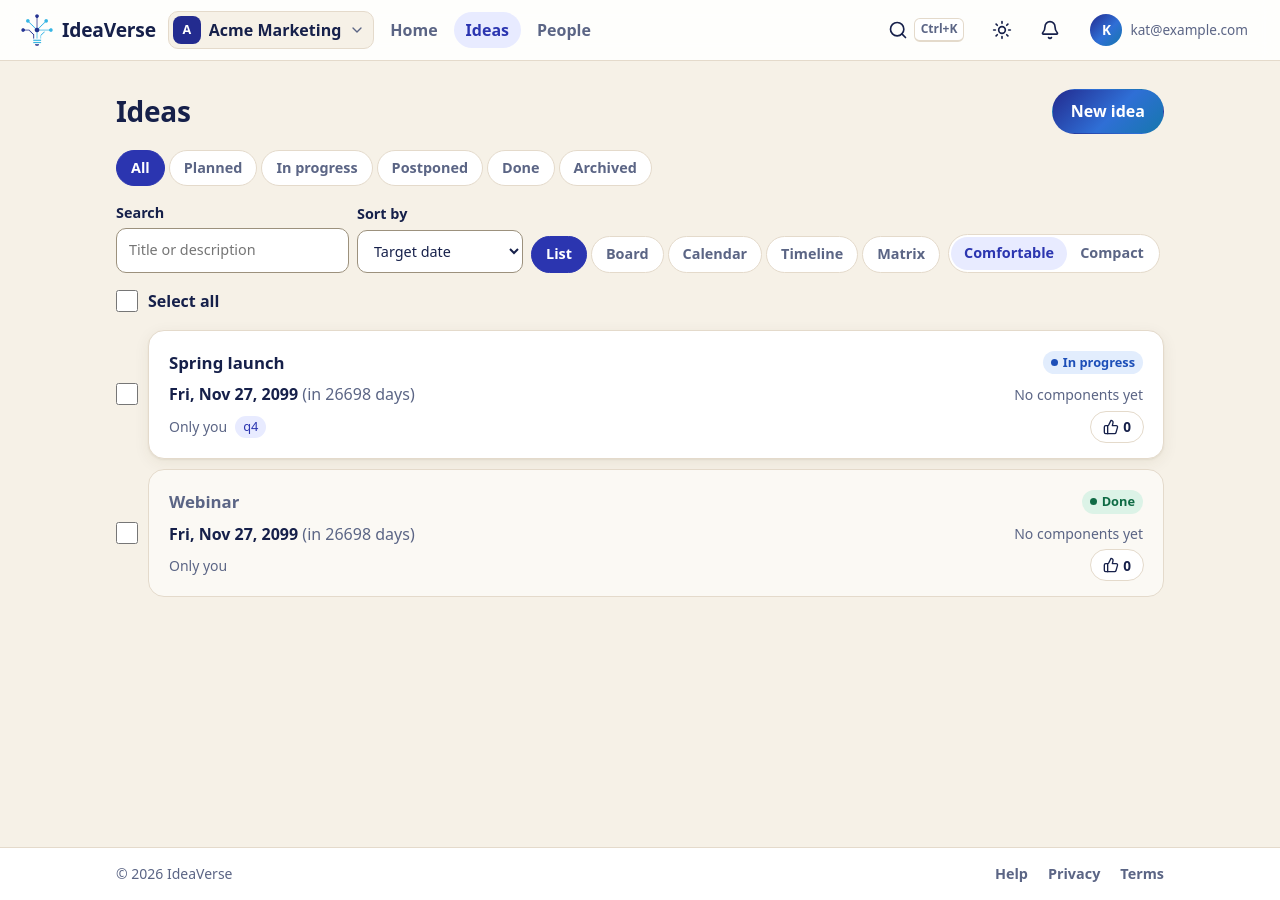
Test: Bulk actions on the ideas list › says no idea was changed, rather than counting none, when the change applies to none of them
Click the checkbox labelled "Select all" at {"x": 127, "y": 301}, box [116,290,138,312]
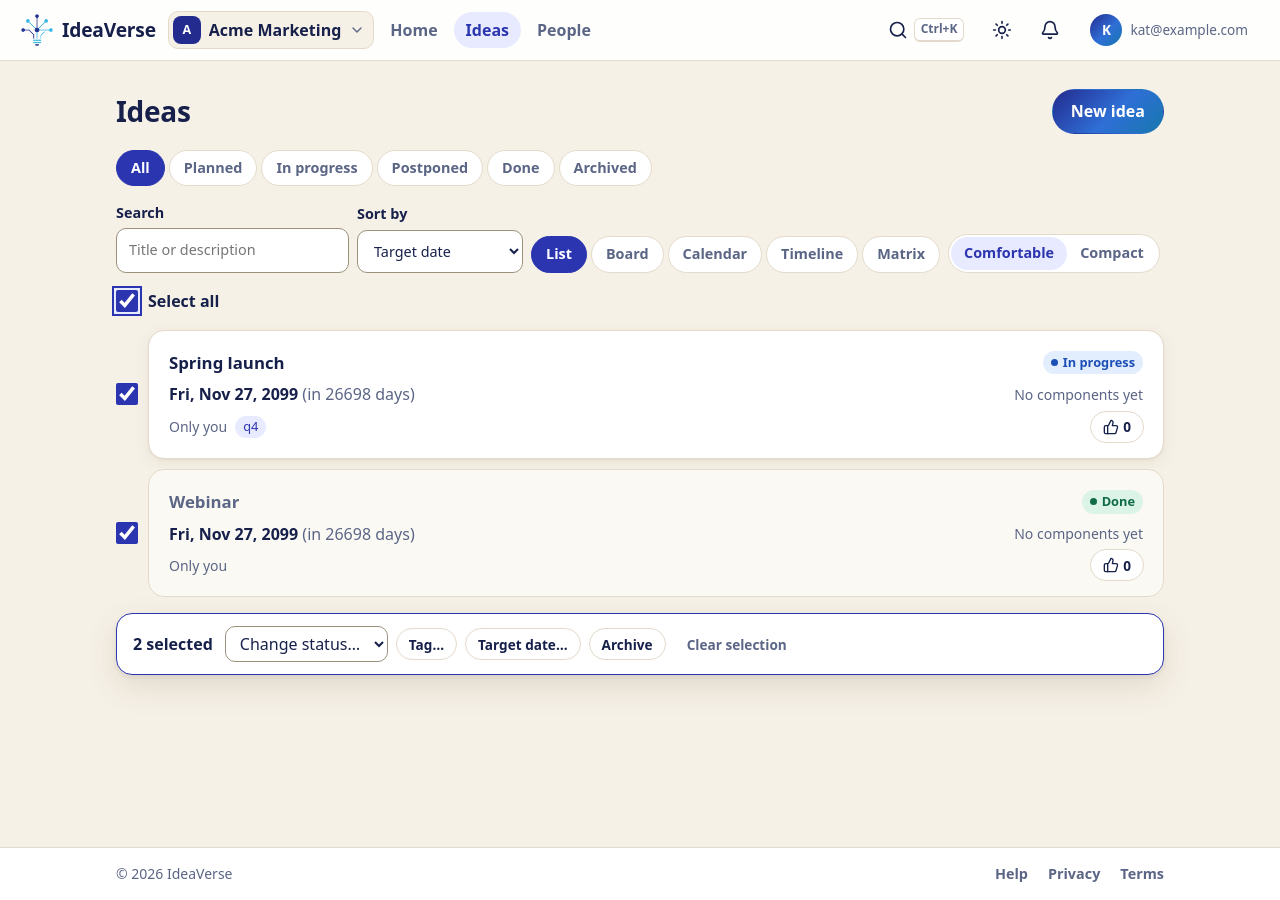
Select "Done" in the dropdown named "Change status" at {"x": 306, "y": 644}, box [225,626,388,662]
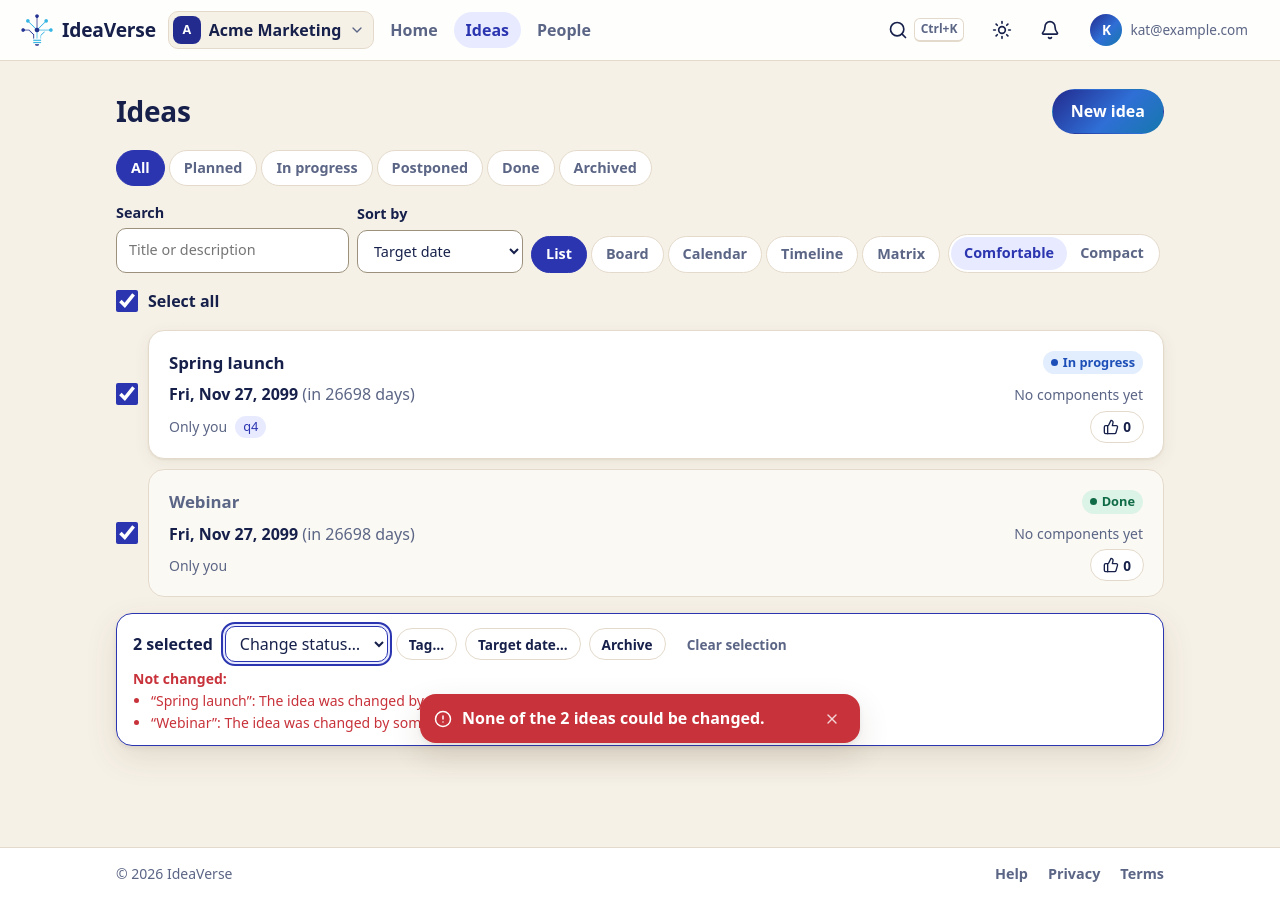
Expected: the text "2 selected" is shown, [133,632,213,657]
Expected: the text "None of the 2 ideas could be changed." is shown, [462,706,808,731]
